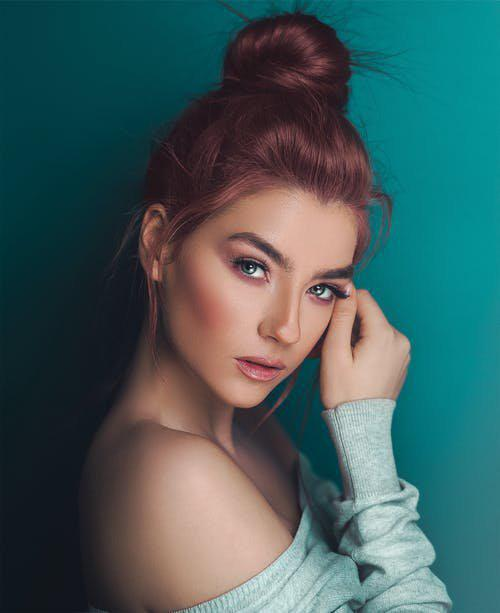Sober: (183, 170, 340, 397)
